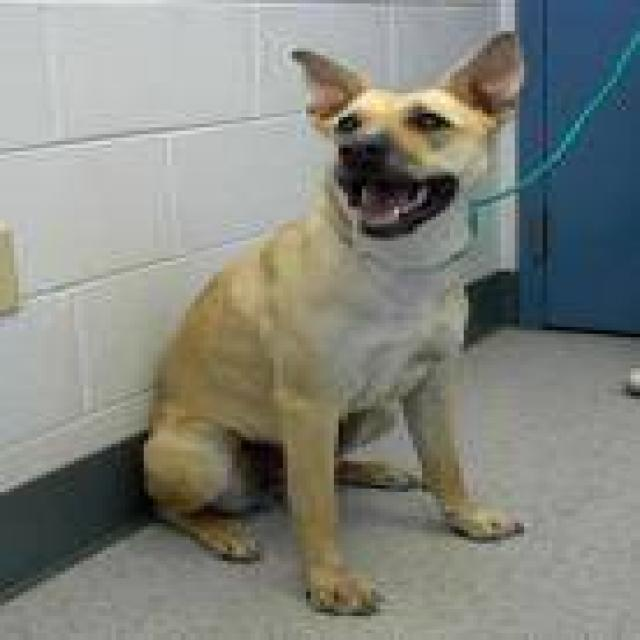dog: (142, 28, 532, 617)
